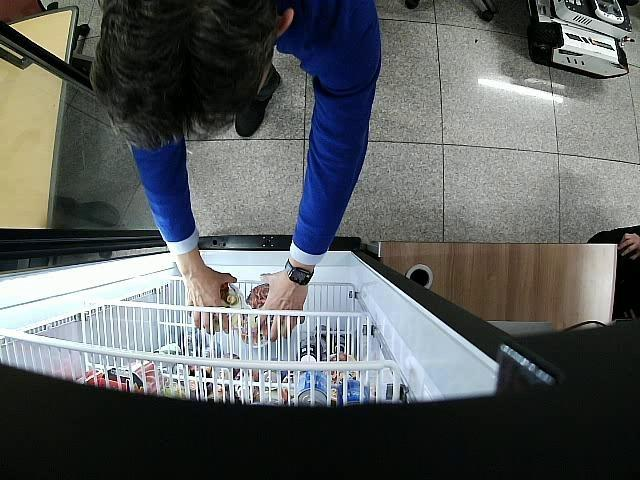03_chapagetti_L: (190, 282, 243, 332), (243, 284, 274, 332)
